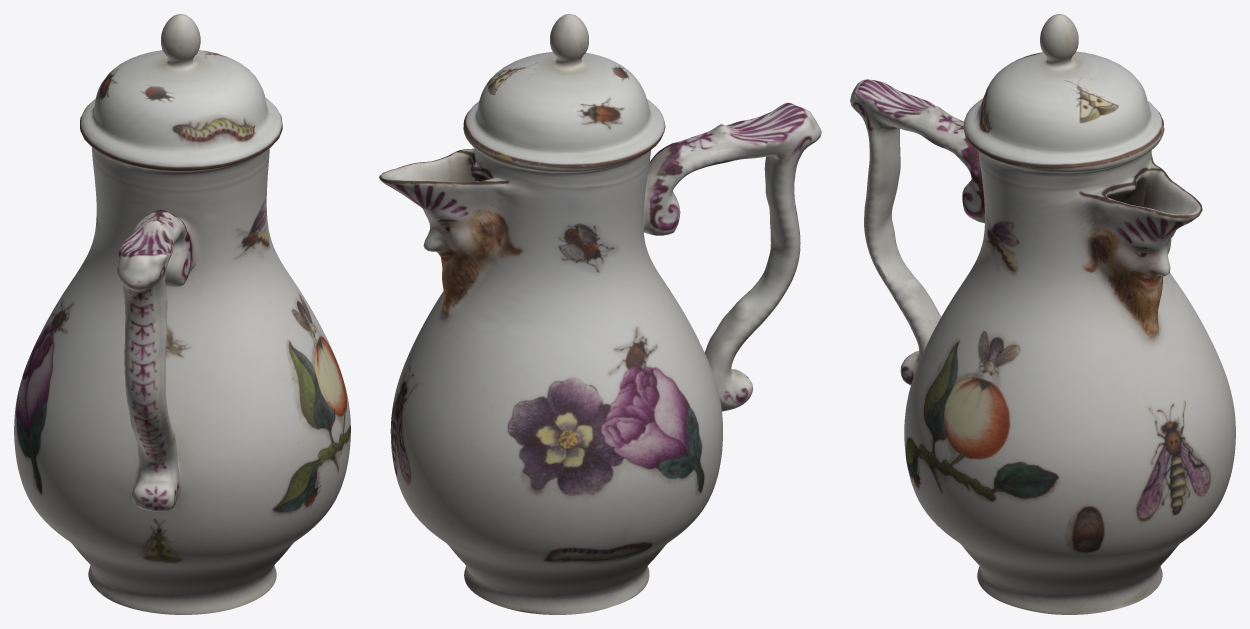
File: coffeepot.glb
3 views of the same model, side by side, from view 1: azimuth 30°, elevation 25°; view 2: azimuth 150°, elevation 25°; view 3: azimuth 270°, elevation 25° (orthographic).
Parts seen in each view (by area): view 1: Object_2; view 2: Object_2; view 3: Object_2.
Boxes of the visible parts, x1,y1,x2,y2 form: Object_2: (14,14,350,614); Object_2: (379,14,821,614); Object_2: (850,14,1235,614).
Bounding box in the file's own units: 5.01 × 8.8 × 5.52.
Materials: 1 (1 with a texture image).
